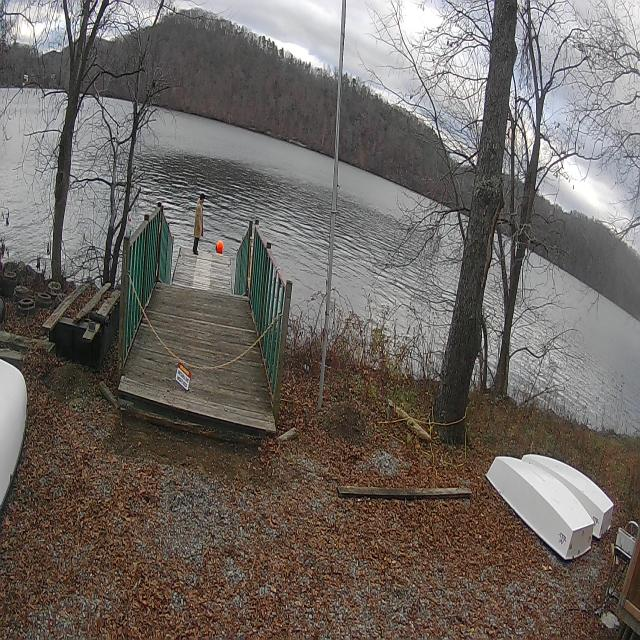Buoy: (214, 232, 226, 257)
